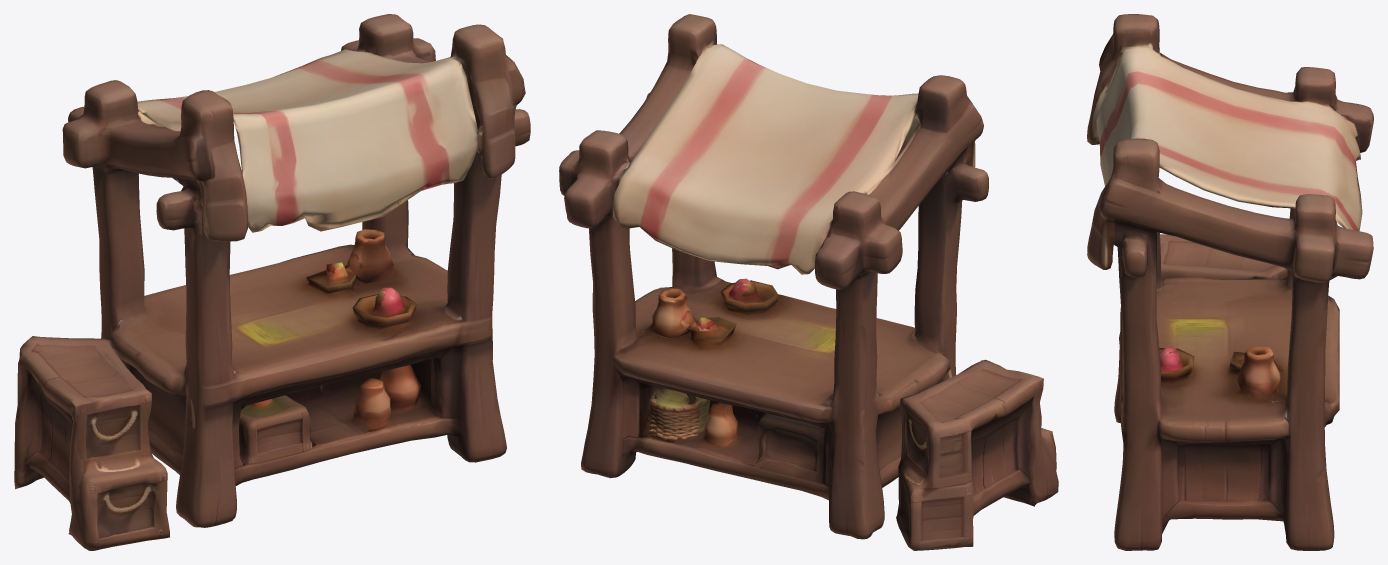
The model's file is stall-2.glb.
3 renders of one model, left to right at view 1: azimuth 30°, elevation 25°; view 2: azimuth 150°, elevation 25°; view 3: azimuth 270°, elevation 25°, orthographic. The views are drawn at different scales.
Parts seen in each view (by area): view 1: stall-2; view 2: stall-2; view 3: stall-2.
Part boxes in pixels (x1,y1,x2,y2): stall-2: (14, 14, 530, 550); stall-2: (559, 14, 1058, 550); stall-2: (1087, 14, 1373, 550).
Size of the model in its own units: 0.8788 by 0.7961 by 0.5173.
Materials: 1 (1 with a texture image).
